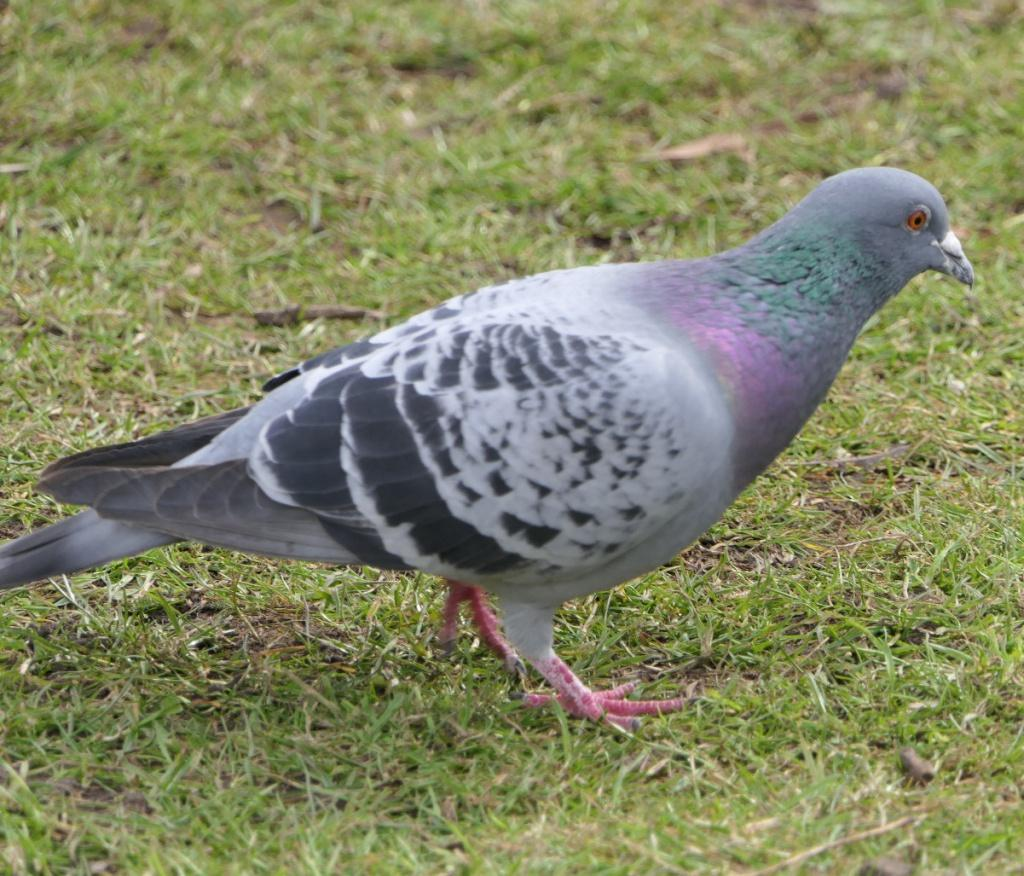Flying Rat: (1, 167, 975, 715)
